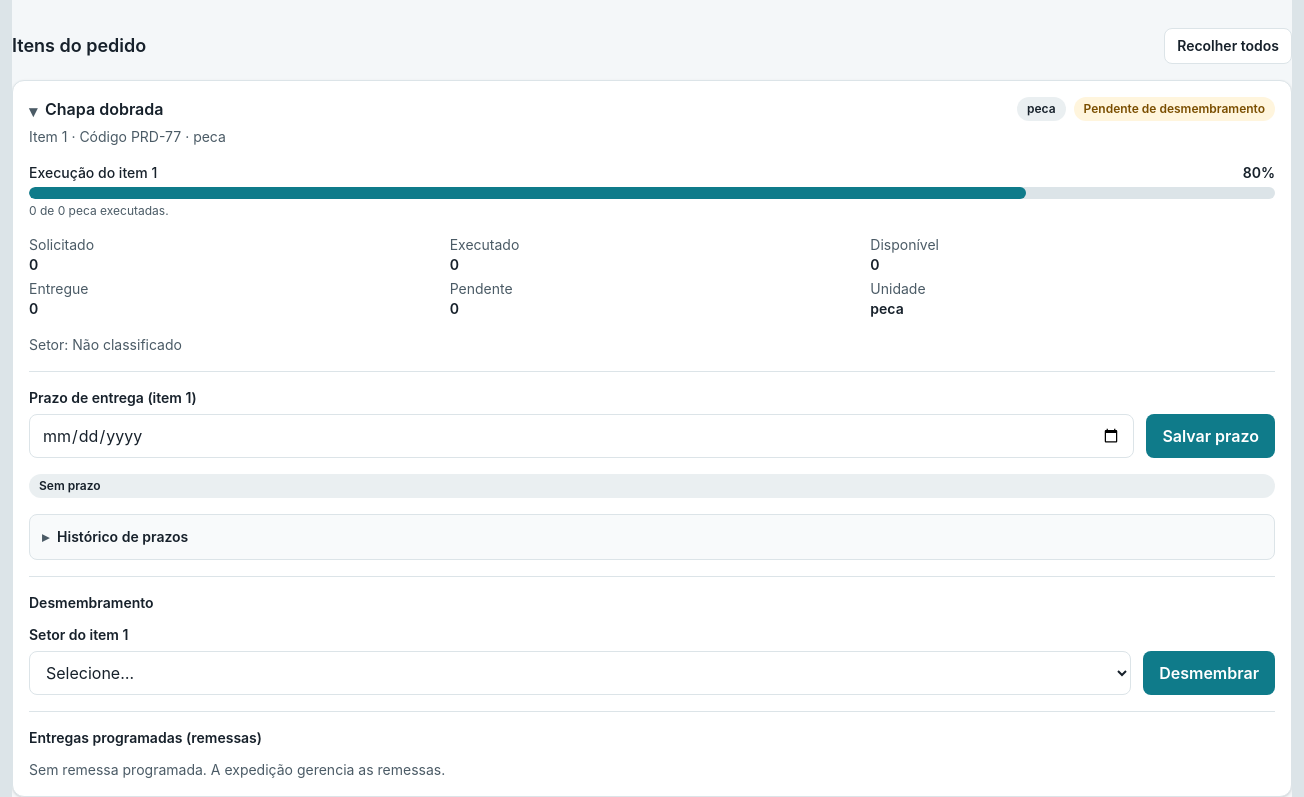
PedidoGerentePage › reflete o item classificado após a ação (LAC-06)
(page scrolled)
Select "Telhas" in the dropdown labelled "Setor do item 1": point(580, 673) [29, 651, 1131, 695]
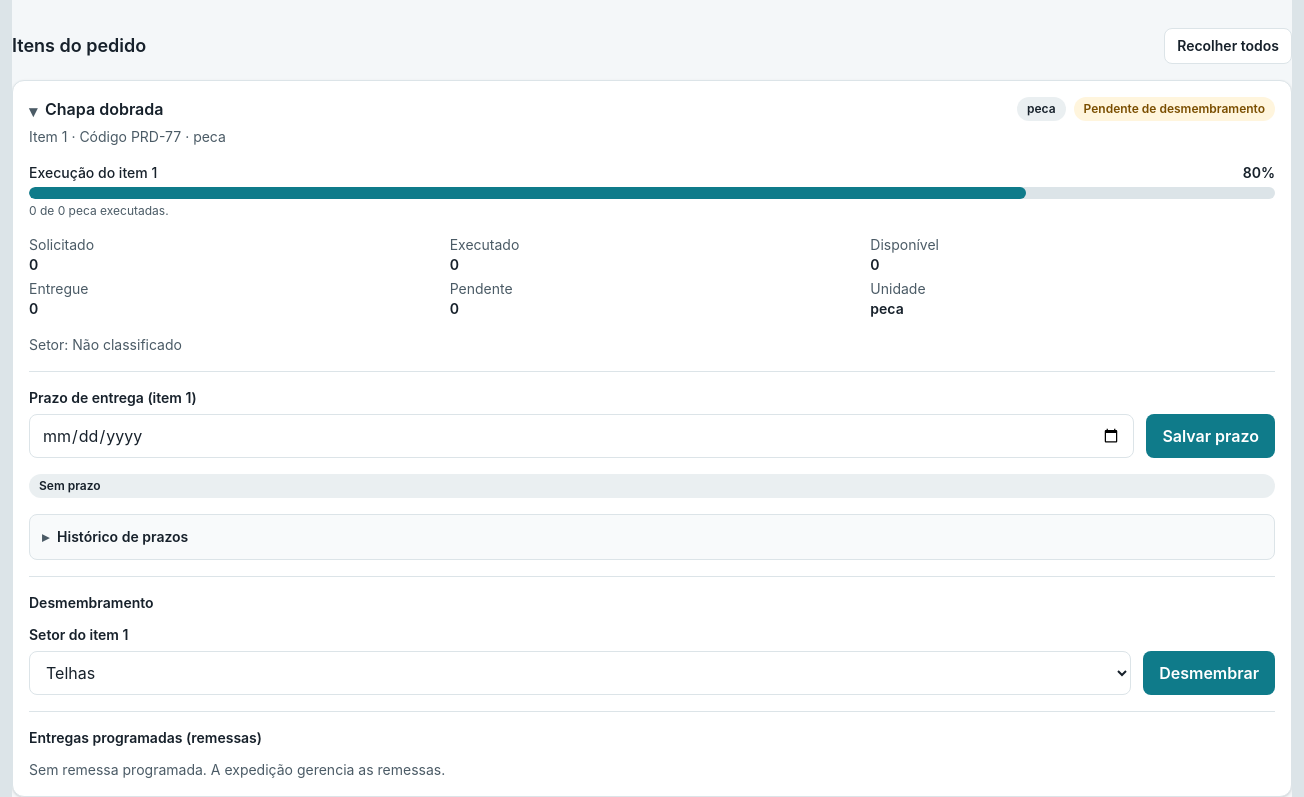
Click the button with aria-label "Classificar item 1": point(1209, 673) [1143, 651, 1275, 695]
(page scrolled)
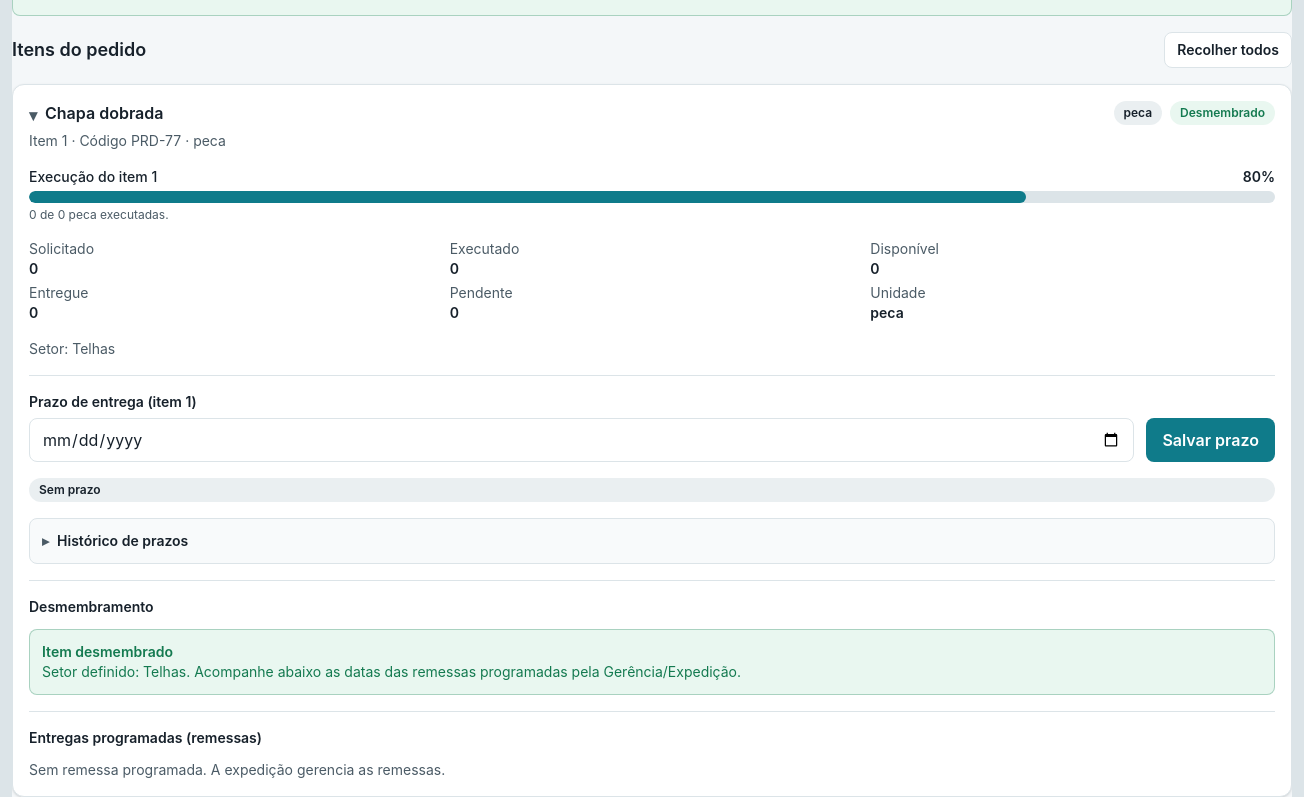
Expected: the text "Item desmembrado" is shown, [42, 643, 173, 660]
